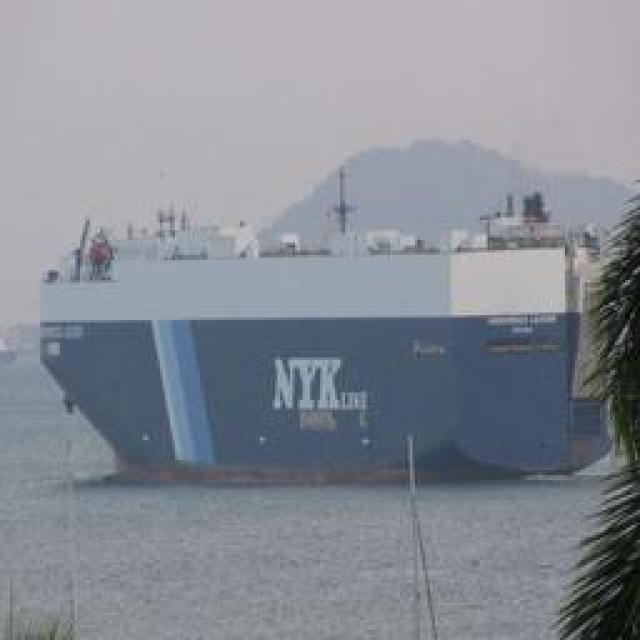Ship: (33, 159, 620, 491)
